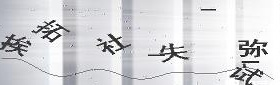chinese: (35, 17, 69, 44), (2, 29, 33, 57), (92, 34, 131, 55), (236, 38, 274, 58), (229, 64, 260, 84), (156, 46, 186, 64)
